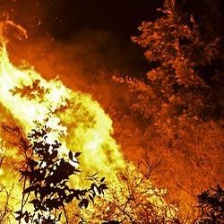fire: (1, 50, 178, 224)
